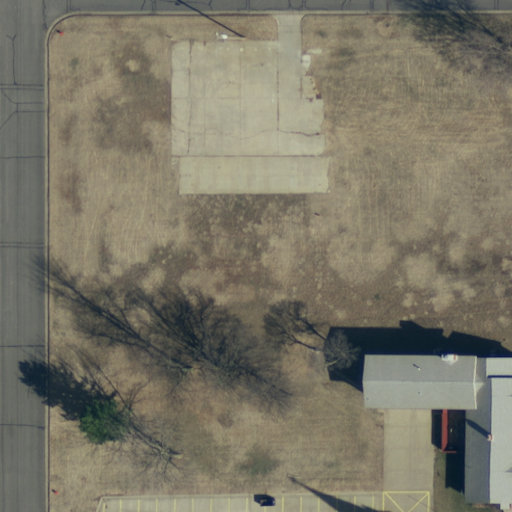DT: (210, 26, 251, 49)
